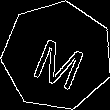M_N: (26, 24, 88, 88)
